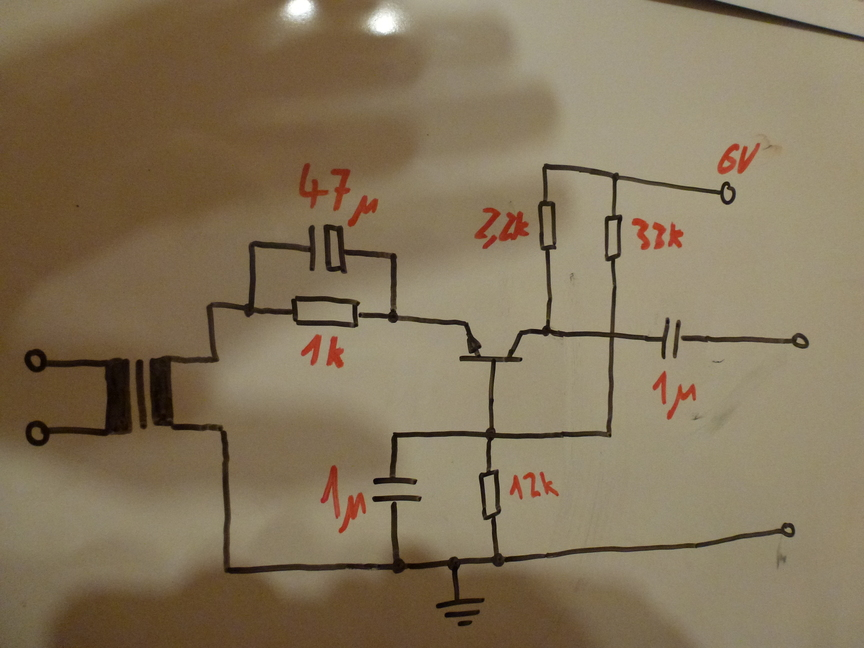capacitor.polarized: (295, 219, 357, 278)
capacitor.unpolarized: (369, 465, 427, 518), (649, 313, 695, 363)
crossover: (602, 324, 625, 346)
gnd: (431, 590, 488, 632)
junction: (478, 421, 503, 447), (383, 305, 405, 331), (239, 296, 261, 322), (386, 554, 409, 578), (443, 552, 466, 574), (213, 419, 236, 441), (485, 550, 511, 569), (204, 348, 227, 368), (605, 165, 626, 186), (535, 320, 555, 341), (216, 558, 236, 579), (200, 296, 219, 316), (600, 424, 617, 444), (535, 159, 555, 175), (384, 247, 401, 265), (387, 427, 405, 444), (244, 235, 261, 253)
resistor: (285, 289, 368, 333), (533, 194, 565, 256), (475, 465, 507, 525), (599, 208, 626, 267)
terminal: (20, 416, 55, 451), (21, 346, 53, 377), (713, 177, 743, 210), (787, 329, 815, 354), (777, 518, 801, 542)
text: (295, 158, 383, 227), (315, 462, 370, 535), (469, 202, 535, 255), (650, 366, 702, 421), (626, 212, 690, 255), (297, 332, 352, 374), (713, 138, 764, 177), (507, 467, 561, 503)
transformer: (94, 349, 185, 445)
transistor: (453, 312, 530, 373)
